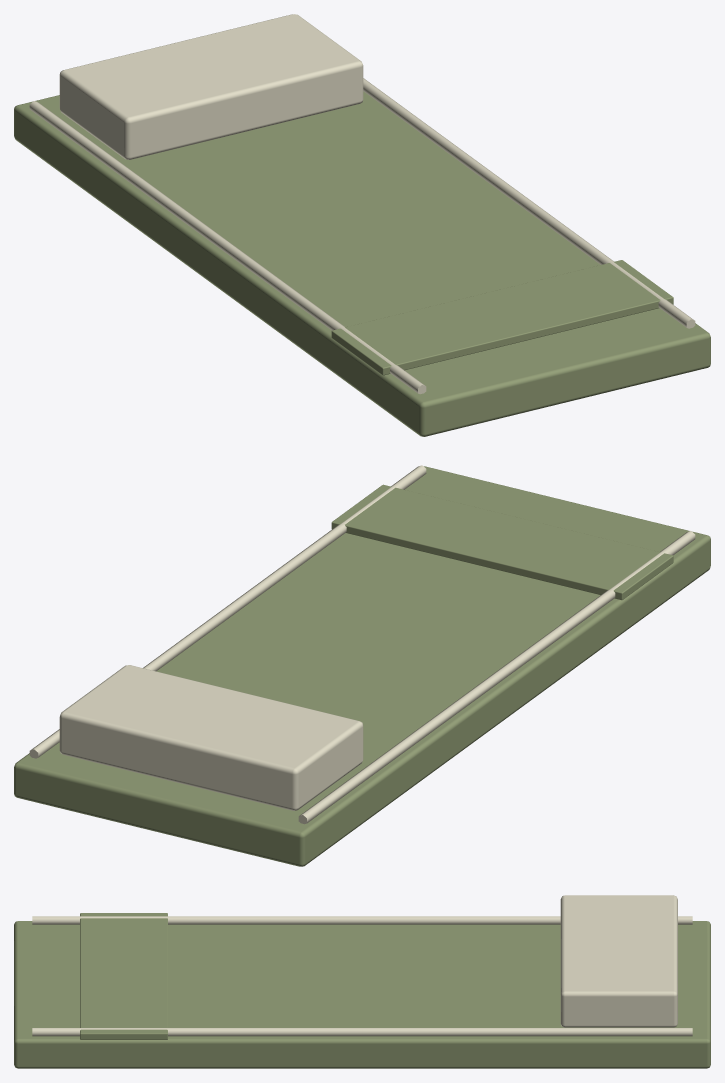
Rendered from wilderness-survival-camp-unrolled-bedroll-eed7e497__21941.glb.
3 renders of one model, top to bottom at view 1: azimuth 30°, elevation 25°; view 2: azimuth 150°, elevation 25°; view 3: azimuth 270°, elevation 25°, orthographic. The views are drawn at different scales.
Visible parts, largest first — view 1: unrolled-bedroll; view 2: unrolled-bedroll; view 3: unrolled-bedroll.
Boxes of the visible parts, x1,y1,x2,y2 form: unrolled-bedroll: (14, 14, 710, 436); unrolled-bedroll: (14, 465, 710, 866); unrolled-bedroll: (14, 895, 710, 1068).
Size of the model in its own units: 0.7801 by 0.1999 by 1.9.
